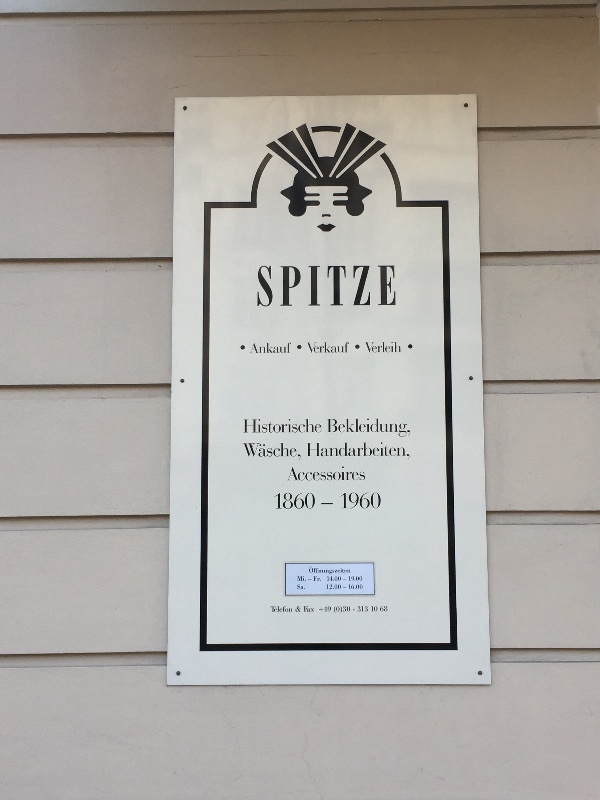text: (273, 266, 288, 309), (289, 266, 304, 309), (305, 266, 320, 309), (321, 266, 336, 309), (337, 266, 352, 309), (353, 266, 368, 309), (369, 266, 384, 309), (258, 266, 272, 309), (385, 266, 398, 309), (337, 417, 352, 439), (353, 417, 368, 439), (369, 417, 384, 439), (385, 417, 400, 439), (257, 441, 272, 463), (273, 441, 288, 463), (321, 441, 336, 462), (337, 441, 352, 462), (353, 441, 368, 462), (369, 441, 384, 462), (385, 441, 400, 462), (242, 441, 256, 463), (353, 491, 368, 511), (306, 441, 320, 462), (289, 441, 302, 463), (305, 464, 320, 483), (321, 464, 336, 483), (337, 464, 352, 483), (289, 492, 304, 510), (339, 491, 352, 511), (274, 492, 288, 510), (353, 464, 366, 483), (257, 418, 272, 434), (273, 418, 288, 434), (289, 418, 304, 434), (305, 418, 320, 434), (369, 491, 381, 511), (292, 464, 304, 483), (321, 340, 336, 355), (401, 417, 411, 439), (257, 341, 272, 355), (273, 341, 288, 355), (306, 340, 320, 355), (401, 441, 411, 462), (327, 417, 336, 439), (337, 340, 350, 355), (369, 341, 384, 354), (385, 341, 400, 354), (305, 492, 315, 510), (321, 566, 336, 576), (337, 566, 351, 576), (248, 418, 256, 434), (337, 605, 351, 614), (273, 605, 288, 613), (309, 566, 320, 576), (371, 606, 384, 613), (321, 605, 332, 613), (357, 605, 368, 613), (305, 605, 315, 613), (321, 502, 336, 507), (295, 605, 304, 613), (353, 575, 363, 582), (326, 584, 336, 590), (353, 584, 363, 590), (327, 576, 336, 582), (364, 341, 368, 354), (297, 575, 304, 582), (297, 584, 304, 591), (353, 609, 368, 612), (289, 341, 292, 355), (313, 576, 320, 582), (308, 578, 320, 581), (321, 418, 323, 434), (289, 605, 293, 613), (380, 605, 384, 613), (337, 576, 342, 582), (254, 341, 256, 355), (348, 575, 352, 582), (343, 578, 352, 581), (343, 586, 352, 589), (385, 605, 388, 613), (337, 584, 341, 590), (348, 584, 352, 590), (334, 605, 336, 614), (305, 575, 307, 582), (401, 341, 402, 354), (271, 605, 272, 613), (303, 605, 304, 613), (319, 605, 320, 613), (305, 584, 306, 591), (321, 576, 322, 582)
